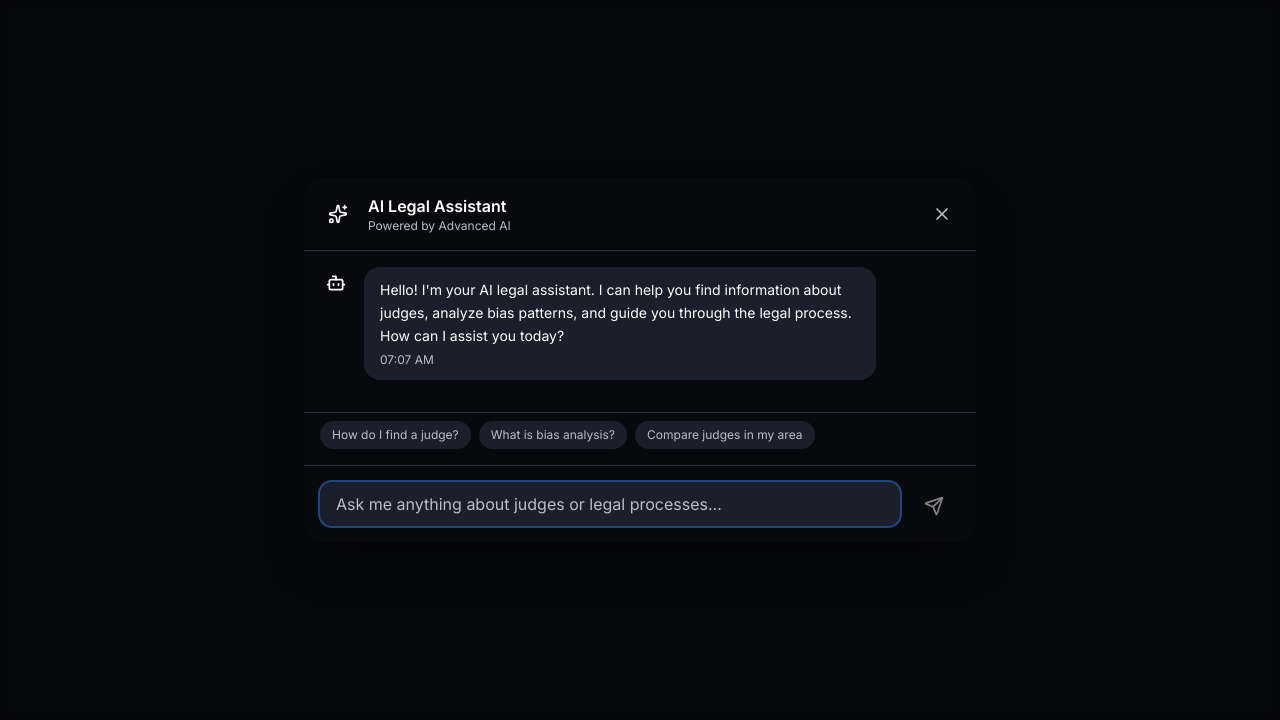
Chat Accessibility - WCAG 2.2 AA › AIChatModal › enables submit when input has content
Step 1. Type "Test query" into the text box with placeholder "Ask me anything about judges or legal processes..." → (610, 504), box [320,482,900,526]
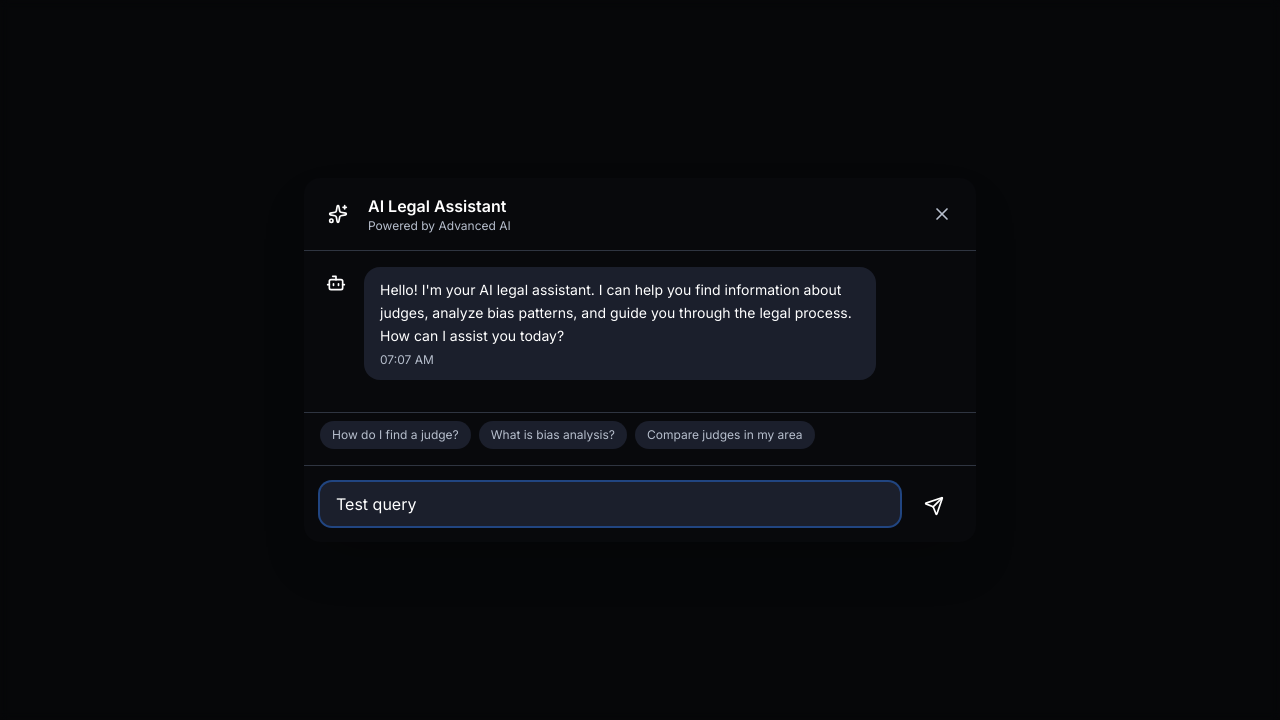
Result: the button named "send message" is enabled at [908,486,960,526]
